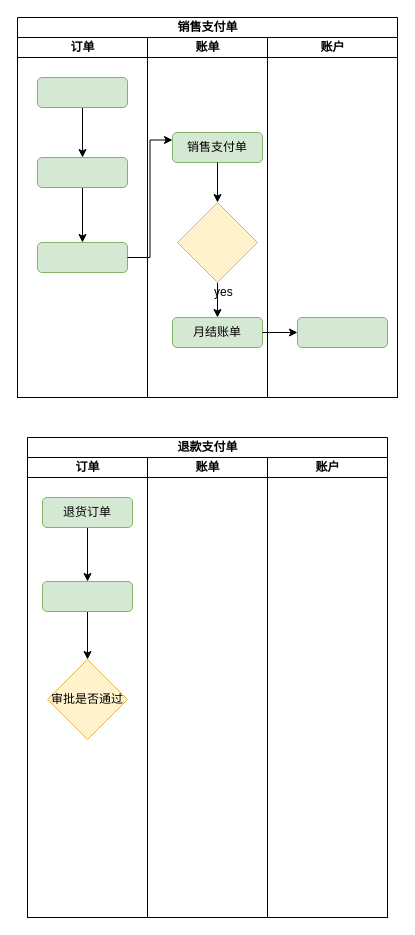
Some shapes in this 415 by 935 pixel diagram are drawn without their labels. Here are the shapes that lost their labels. From the top down, the centre of each, then its label:
the point at 82,92: 销售订单
the point at 82,172: 销售订单 支付明细
the point at 82,257: 待支付金额
the point at 217,242: 支付是否成功
the point at 342,332: 账单账户
the point at 87,596: 退货/退款审批
